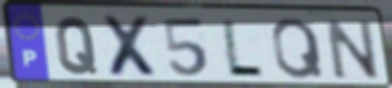5: (160, 16, 211, 79)
L: (219, 16, 266, 79)
N: (322, 16, 383, 82)
Q: (269, 15, 327, 81), (53, 15, 100, 77)
X: (99, 13, 164, 80)
